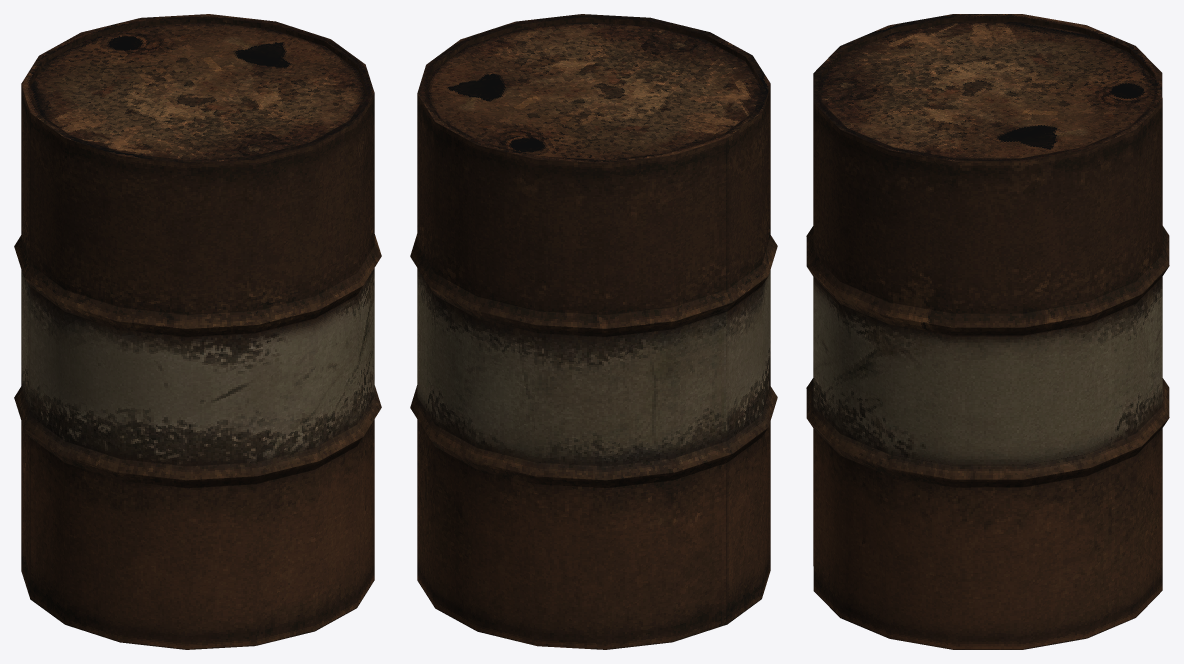
File: metal_barrel_hr_2.glb
The picture shows the model from 3 angles, left to right: view 1: azimuth 30°, elevation 25°; view 2: azimuth 150°, elevation 25°; view 3: azimuth 270°, elevation 25°; orthographic projection.
Visible parts, largest first — view 1: metal_barrel_hr_2; view 2: metal_barrel_hr_2; view 3: metal_barrel_hr_2.
Boxes of the visible parts, x1,y1,x2,y2 form: metal_barrel_hr_2: (14,14,381,649); metal_barrel_hr_2: (410,14,777,649); metal_barrel_hr_2: (806,14,1169,649).
Bounding box in the file's own units: 0.6735 × 1 × 0.6735.
1 material, 1 textured.
